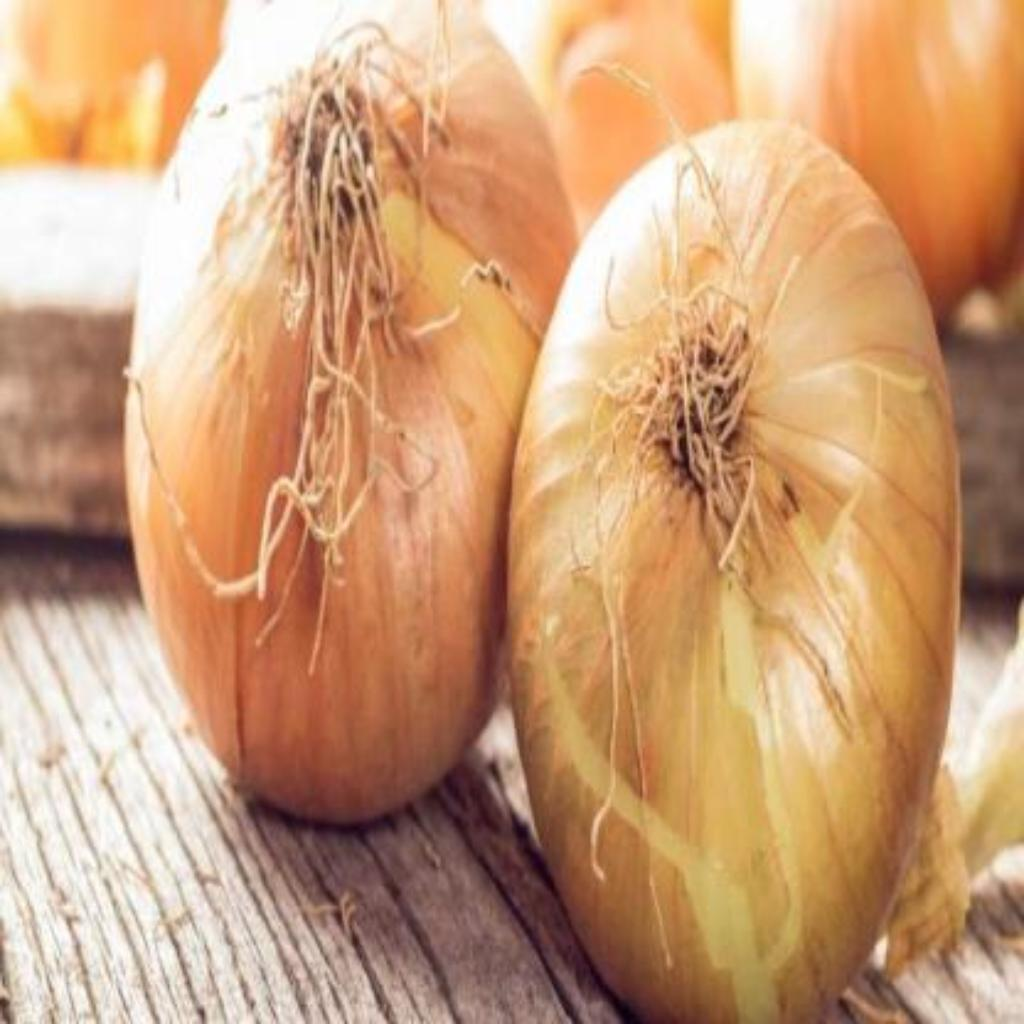Onion: (512, 121, 962, 1024), (126, 0, 576, 823)
